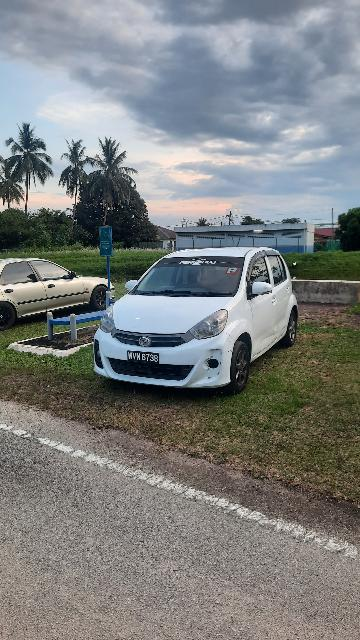License_Plate: (125, 351, 161, 366)
car: (90, 248, 300, 399)
